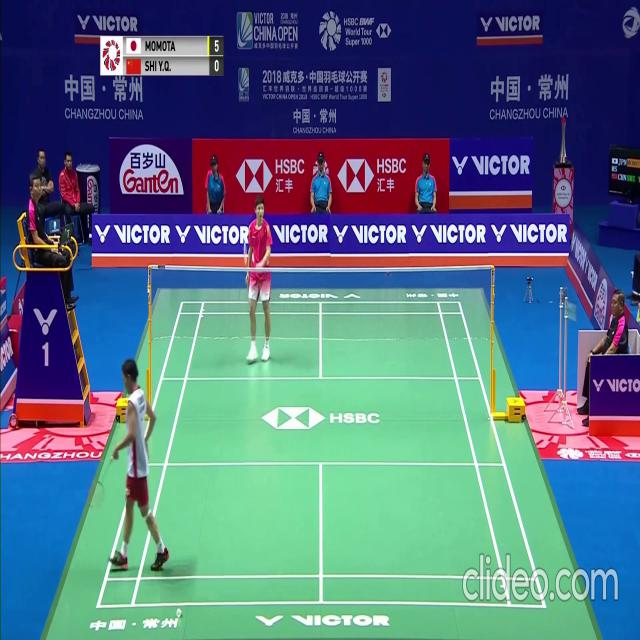Shuttlecock: (177, 608, 181, 615)
